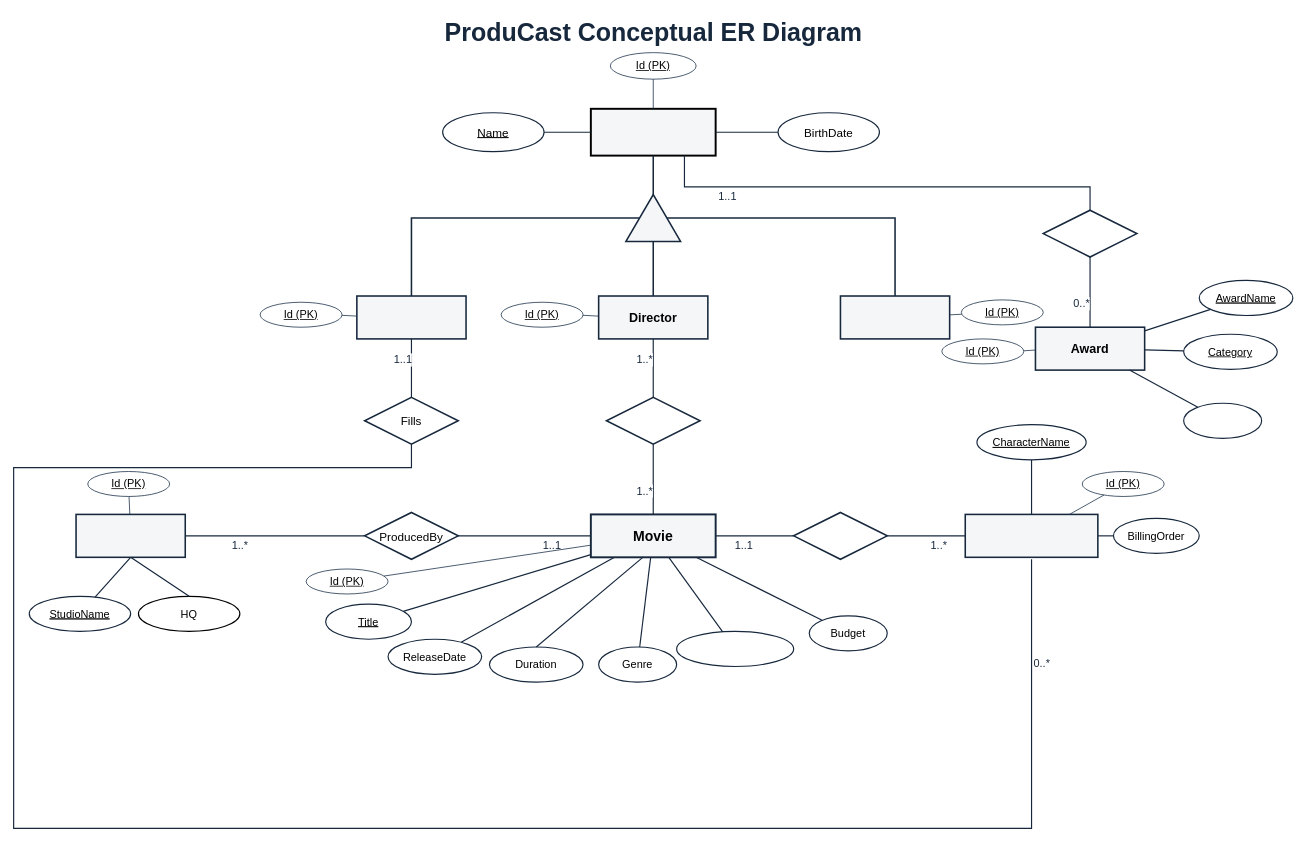
This 1307x843 diagram has some shape labels left out. The shapes that lost their labels are listed below. From the top down, each one's box as (x1, y1, x2, y2) in pixels, then its label:
(590, 107, 716, 156): Person
(625, 193, 681, 242): ISA
(1042, 209, 1137, 257): Receives
(356, 295, 466, 339): Actor
(839, 295, 950, 339): CameraMan
(605, 396, 700, 445): Directs
(1183, 402, 1262, 439): Year
(75, 513, 186, 558): Studio
(792, 511, 888, 560): BelongsTo
(964, 513, 1098, 558): PerformanceRole
(676, 630, 794, 667): BoxOfficeRevenue
